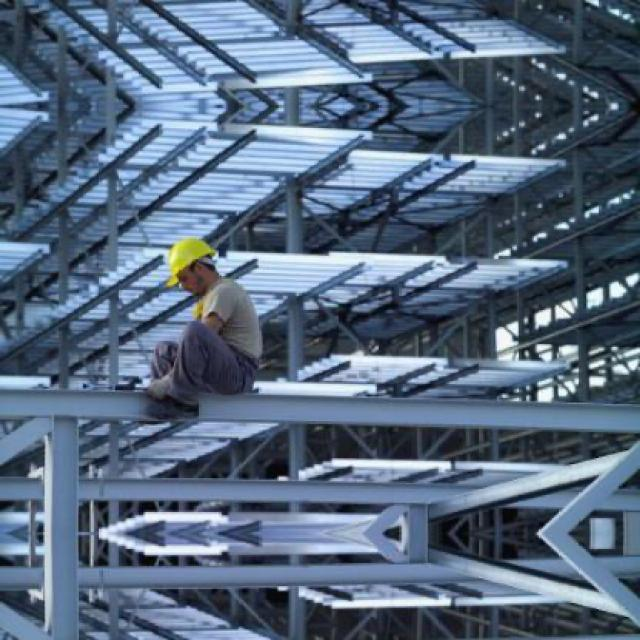helmet: (160, 231, 222, 293)
